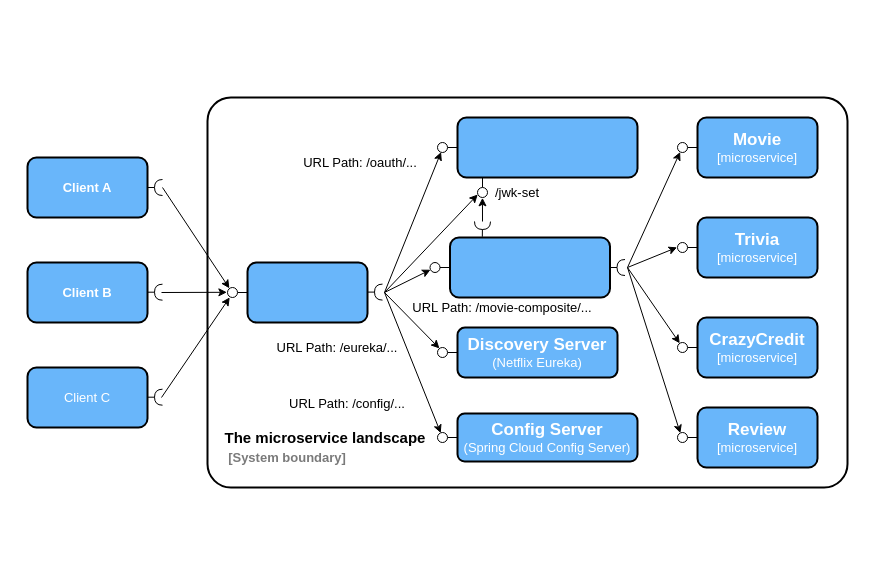
Some shapes in this 884 by 574 pixel diagram are drawn without their labels. The centre of each missing label's shape, as x and y in pixels:
Authorization Server (Spring Security OAuth2): [547,147]
Edge Server [microservice]: [307,292]
Movie Composite [ microservice ]: [529,267]
